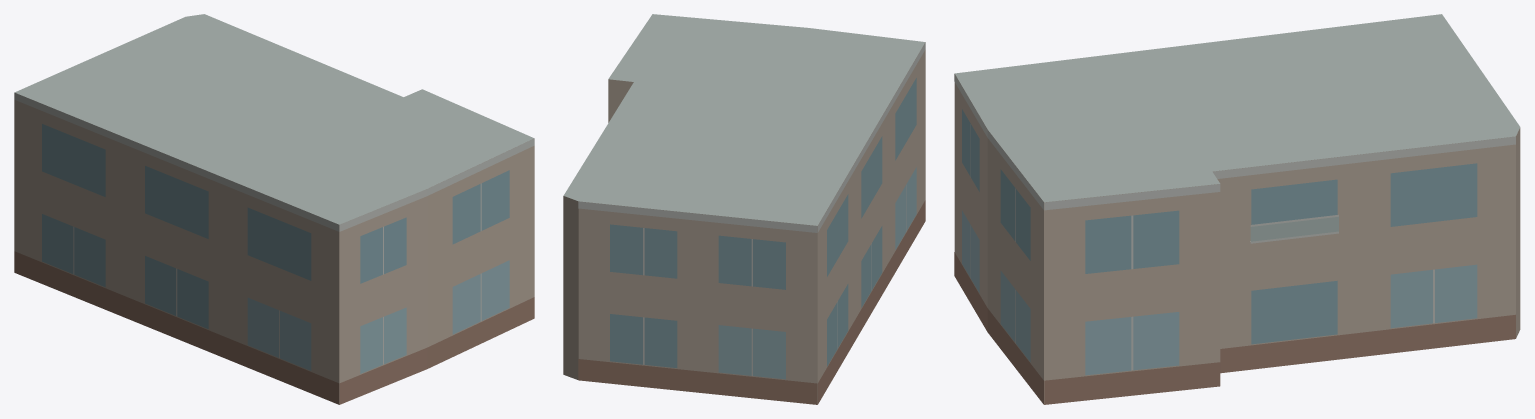
The model's file is survey-upis-32958465.glb.
3 renders of one model, left to right at view 1: azimuth 30°, elevation 25°; view 2: azimuth 150°, elevation 25°; view 3: azimuth 270°, elevation 25°, orthographic. The views are drawn at different scales.
Visible parts, largest first — view 1: survey-upis-32958465.tmp; view 2: survey-upis-32958465.tmp; view 3: survey-upis-32958465.tmp.
Part boxes in pixels (bbox=[...]): survey-upis-32958465.tmp: bbox=[14, 14, 534, 404]; survey-upis-32958465.tmp: bbox=[563, 14, 925, 404]; survey-upis-32958465.tmp: bbox=[954, 14, 1520, 404].
Bounding box in the file's own units: 12.17 × 6.1 × 15.46.
